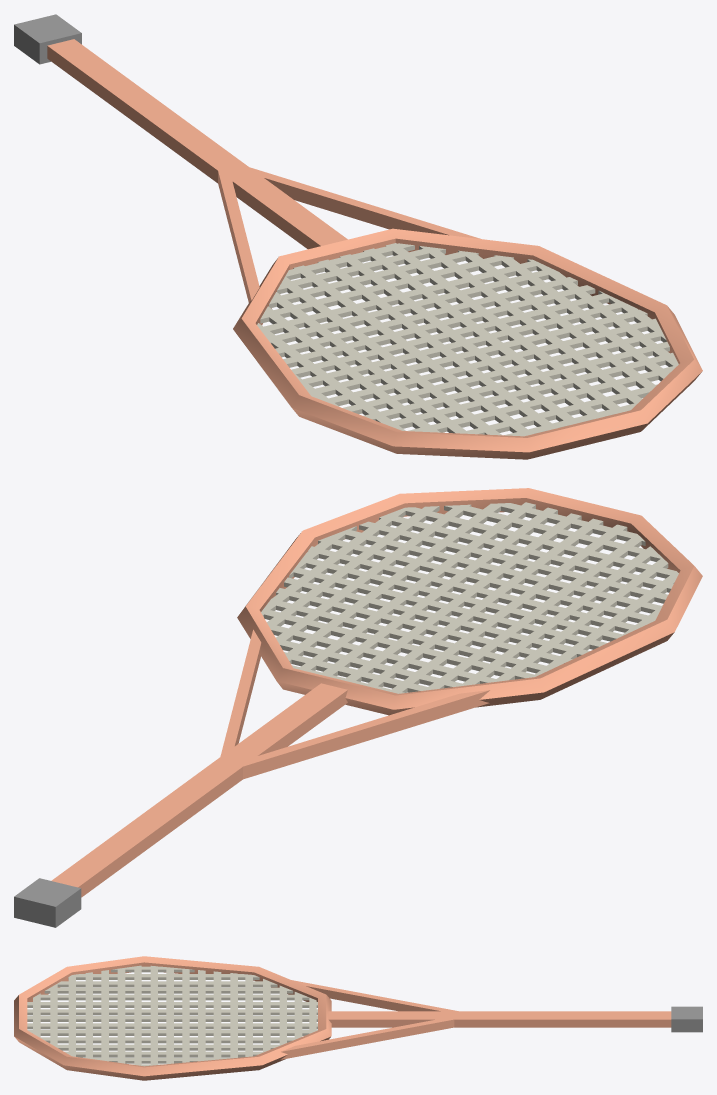
The model's file is tennis1.fbx.
The picture shows the model from 3 angles, top to bottom: view 1: azimuth 30°, elevation 25°; view 2: azimuth 150°, elevation 25°; view 3: azimuth 270°, elevation 25°; orthographic projection. The views are drawn at different scales.
Parts seen in each view (by area): view 1: Cube_5; view 2: Cube_5; view 3: Cube_5.
Part boxes in pixels (x1,y1,x2,y2): Cube_5: (14,14,702,459); Cube_5: (14,488,702,927); Cube_5: (14,956,702,1080).
Bounding box in the file's own units: 38.17 × 2.07 × 96.04.
